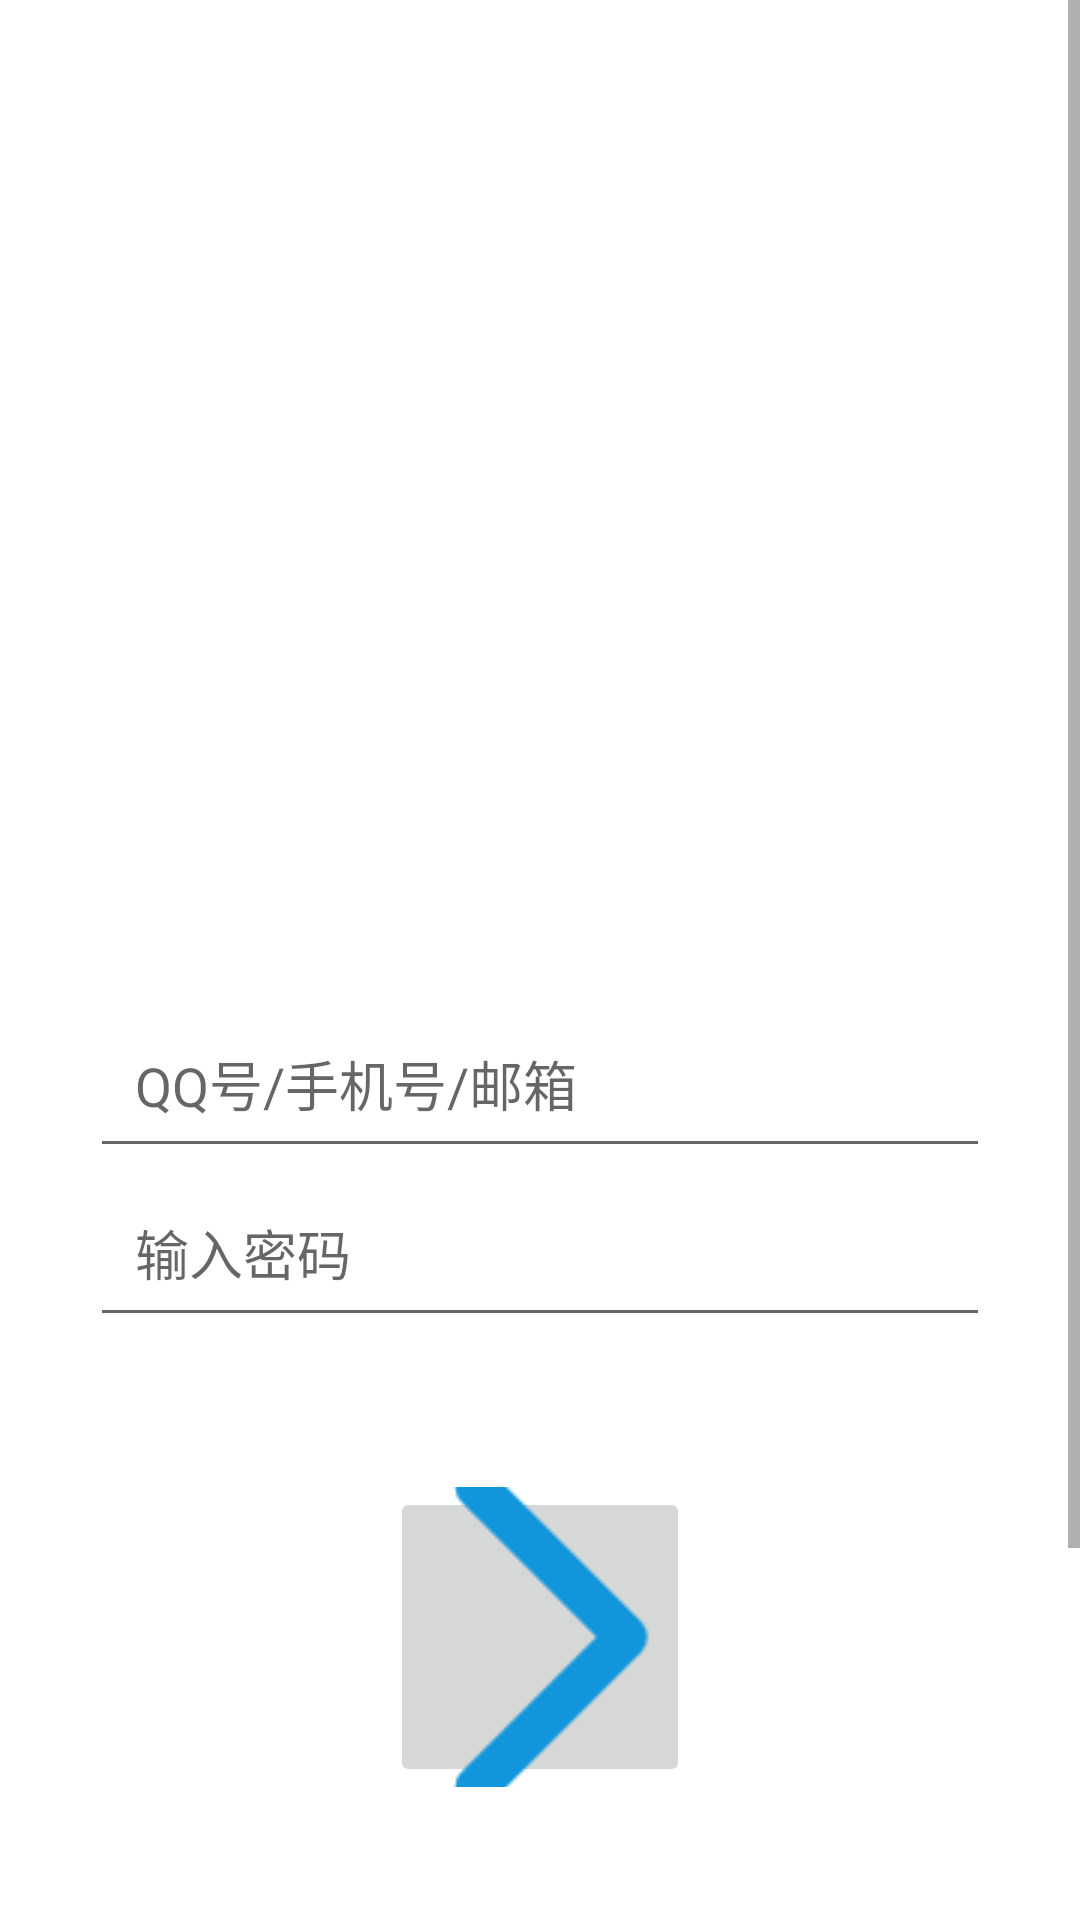

Icon click points for this 1080px×1920px phone screenshot, format (x=x, y=y):
right: (x=540, y=1637)
